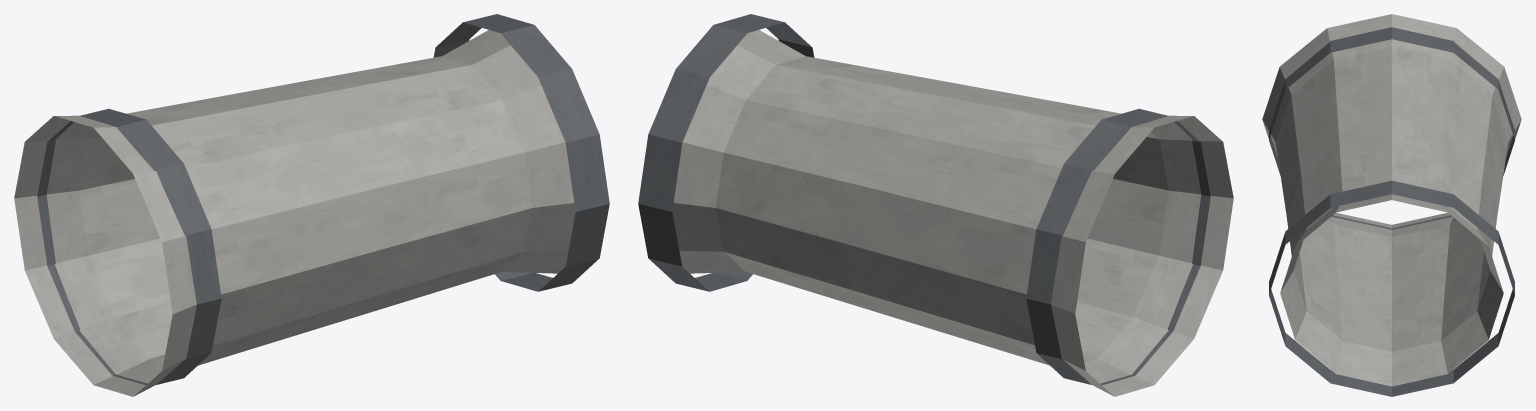
The model's file is eq_future_1_arm.glb.
3 renders of one model, left to right at view 1: azimuth 30°, elevation 25°; view 2: azimuth 150°, elevation 25°; view 3: azimuth 270°, elevation 25°, orthographic. The views are drawn at different scales.
Parts seen in each view (by area): view 1: eq_future_1_arm; view 2: eq_future_1_arm; view 3: eq_future_1_arm.
Part boxes in pixels (x1,y1,x2,y2): eq_future_1_arm: [14, 14, 609, 396]; eq_future_1_arm: [638, 14, 1233, 396]; eq_future_1_arm: [1262, 14, 1521, 396].
Bounding box in the file's own units: 0.233 × 0.13 × 0.145.
2 materials, 2 textured.
